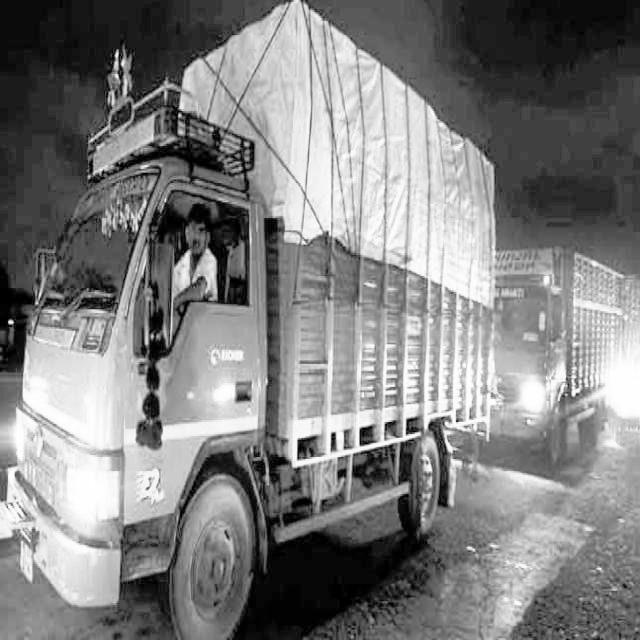Truck: (3, 0, 501, 639), (487, 244, 632, 473)
